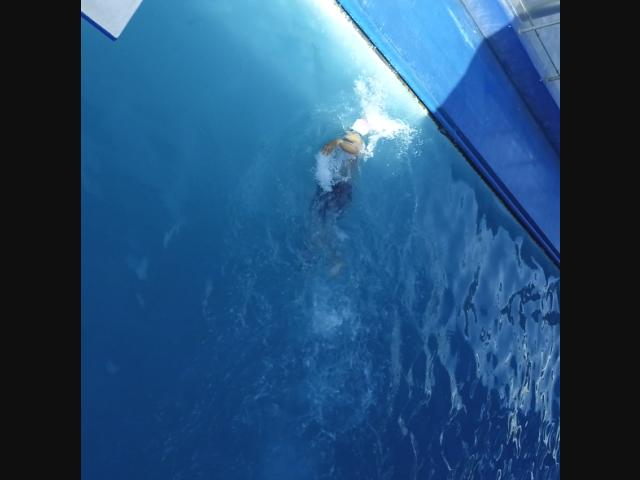swimming: (308, 120, 370, 280)
